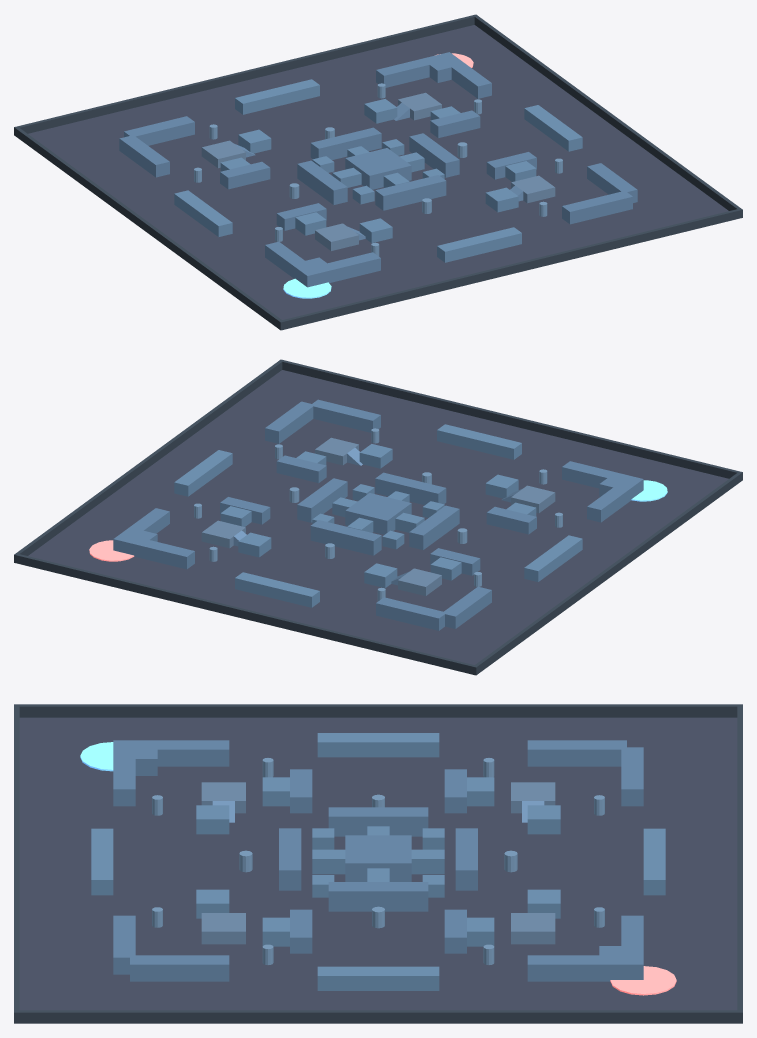
Rendered from arena.glb.
3 renders of one model, top to bottom at view 1: azimuth 30°, elevation 25°; view 2: azimuth 150°, elevation 25°; view 3: azimuth 270°, elevation 25°, orthographic. The views are drawn at different scales.
Visible parts, largest first — view 1: Arena_Floor, Border_S, Border_N, Border_W, Border_E, Center_Core, Outer_N, Outer_S, Center_South, Corner_B2, Center_North, Blue_Cover_B (+26 smaller); view 2: Arena_Floor, Border_N, Border_S, Border_W, Border_E, Center_Core, Outer_S, Outer_N, Center_North, Center_South, Red_Cover_B, Corner_A2 (+25 smaller); view 3: Arena_Floor, Border_E, Border_W, Outer_W, Outer_E, Center_East, Center_Core, Corner_B1, Center_West, Corner_A1, Red_Cover_A, Blue_Cover_A (+32 smaller).
Boxes of the visible parts, box(x1,y1,x2,y2) form: Arena_Floor: box(28, 25, 728, 319); Border_S: box(282, 209, 739, 329); Border_N: box(18, 15, 474, 133); Border_W: box(14, 126, 284, 330); Border_E: box(473, 14, 742, 218); Center_Core: box(345, 148, 411, 189); Outer_N: box(235, 79, 319, 114); Outer_S: box(437, 227, 521, 262); Center_South: box(375, 175, 446, 210); Corner_B2: box(562, 191, 632, 224); Center_North: box(310, 127, 381, 159); Blue_Cover_B: box(311, 252, 380, 284); Arena_Floor: box(28, 370, 728, 664); Border_N: box(17, 554, 474, 674); Border_S: box(282, 360, 738, 478); Border_W: box(472, 471, 742, 675); Border_E: box(14, 359, 283, 563); Center_Core: box(345, 493, 411, 534); Outer_S: box(437, 424, 521, 459); Outer_N: box(235, 572, 319, 607); Center_North: box(310, 520, 381, 555); Center_South: box(375, 472, 446, 504); Red_Cover_B: box(124, 537, 194, 569); Corner_A2: box(376, 597, 445, 630); Arena_Floor: box(19, 717, 737, 1010); Border_E: box(14, 1010, 742, 1023); Border_W: box(14, 704, 742, 717); Outer_W: box(317, 733, 439, 757); Outer_E: box(317, 966, 439, 990); Center_East: box(328, 882, 428, 911); Center_Core: box(345, 835, 411, 881); Corner_B1: box(130, 955, 229, 981); Center_West: box(328, 807, 428, 836); Corner_A1: box(527, 740, 626, 766); Red_Cover_A: box(527, 955, 626, 981); Blue_Cover_A: box(130, 740, 229, 766).
Size of the model in its own units: 132 by 4 by 132.
